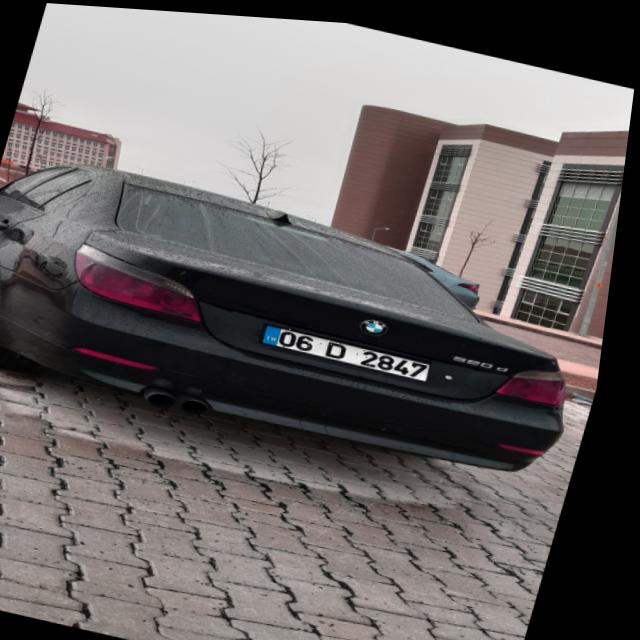license_plate: (264, 319, 443, 375)
